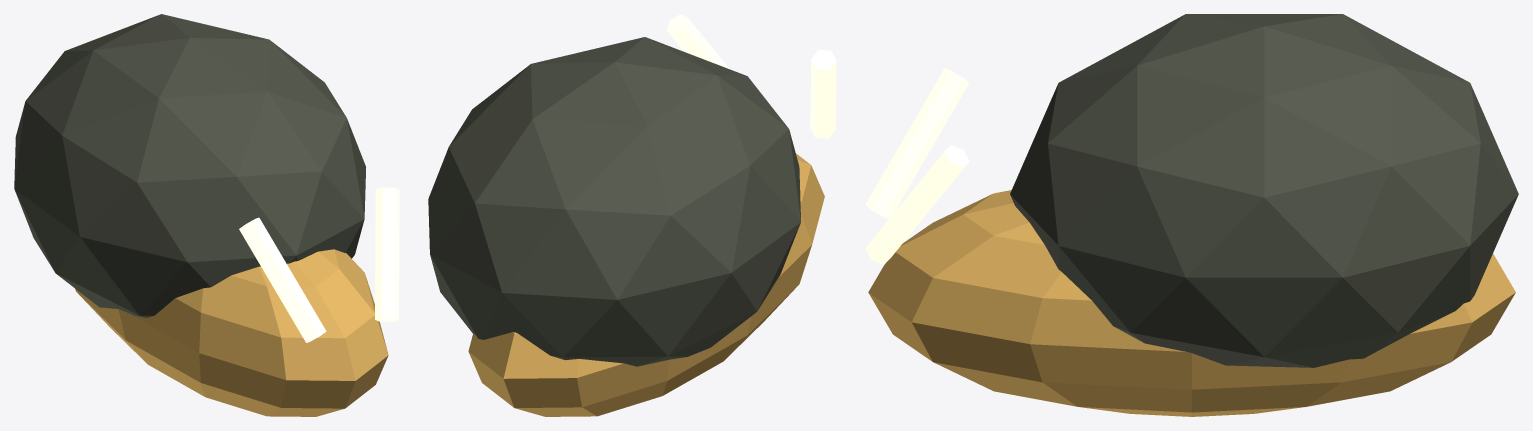
The model's file is babosa_oxido.glb.
3 renders of one model, left to right at view 1: azimuth 30°, elevation 25°; view 2: azimuth 150°, elevation 25°; view 3: azimuth 270°, elevation 25°, orthographic. The views are drawn at different scales.
Parts seen in each view (by area): view 1: Icosphere, Sphere, Cylinder.001, Cylinder; view 2: Icosphere, Sphere, Cylinder, Cylinder.001; view 3: Icosphere, Sphere, Cylinder, Cylinder.001.
Part boxes in pixels (x1=…): Icosphere: x1=14, y1=14, x2=365, y2=317; Sphere: x1=75, y1=249, x2=388, y2=416; Cylinder.001: x1=375, y1=187, x2=399, y2=321; Cylinder: x1=239, y1=217, x2=326, y2=342; Icosphere: x1=428, y1=37, x2=800, y2=366; Sphere: x1=468, y1=153, x2=824, y2=416; Cylinder: x1=810, y1=49, x2=836, y2=138; Cylinder.001: x1=666, y1=14, x2=729, y2=69; Icosphere: x1=1010, y1=14, x2=1518, y2=367; Sphere: x1=868, y1=190, x2=1515, y2=416; Cylinder: x1=865, y1=68, x2=969, y2=218; Cylinder.001: x1=865, y1=145, x2=969, y2=264.
Size of the model in its own units: 0.5478 by 0.574 by 0.9043.
